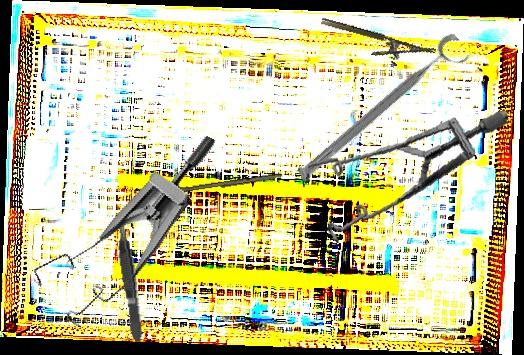Fixation Ring: (295, 30, 475, 193)
Needle Holder: (316, 16, 437, 72)
Scalpel Handle: (172, 171, 283, 197)
Speculum: (19, 93, 220, 348), (288, 81, 509, 265)
Tissue Forceps: (113, 211, 145, 345)
